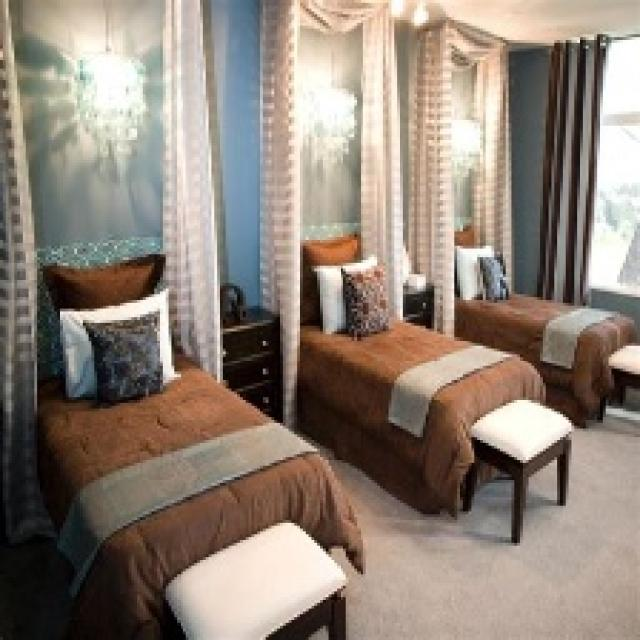Bed: (452, 223, 637, 426)
